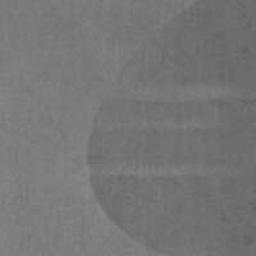Oil spot: (84, 0, 256, 256)
